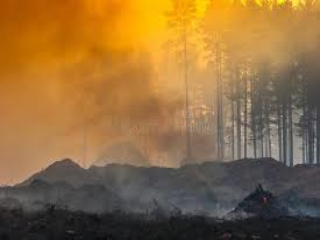smoke: (67, 36, 194, 167)
